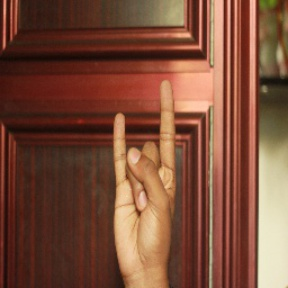V: (107, 77, 183, 268)
